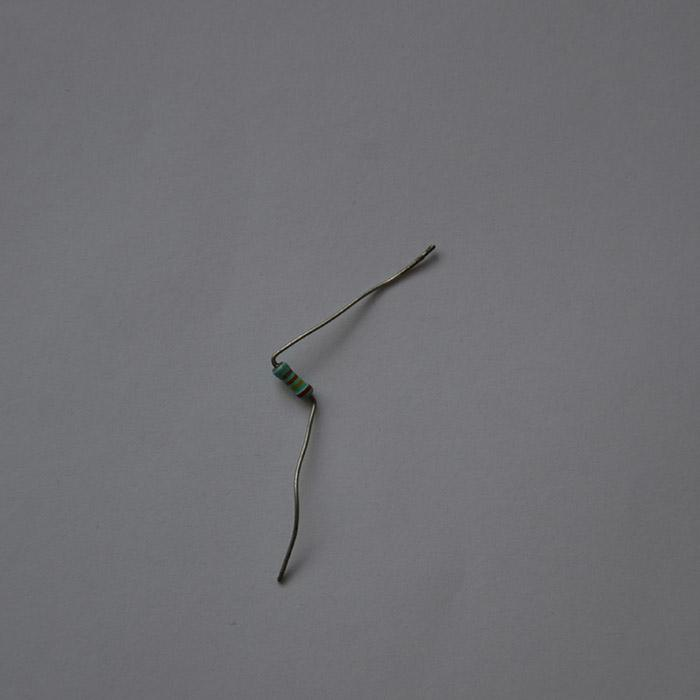resistor: (271, 359, 314, 400)
